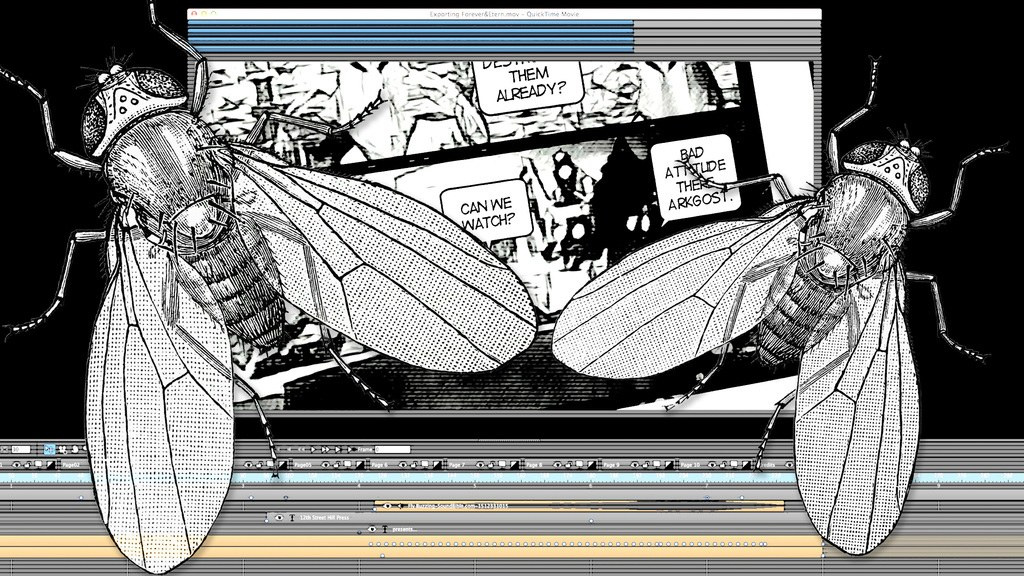insect: (3, 0, 543, 575), (550, 55, 1004, 556)
